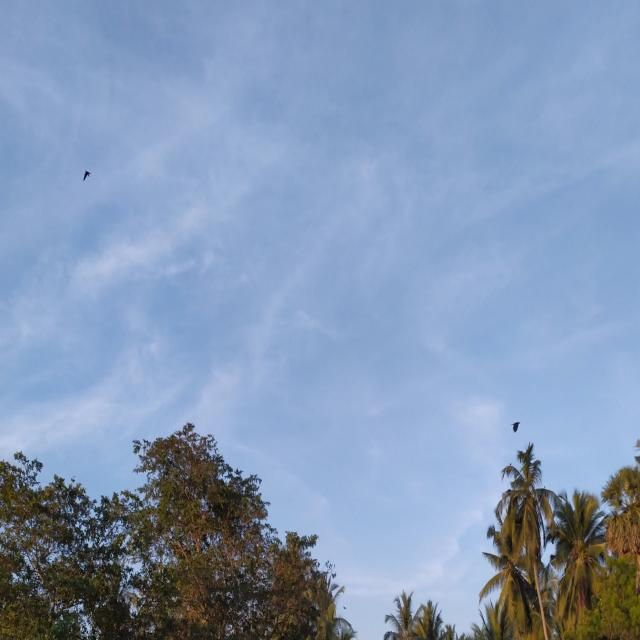bird: (78, 163, 94, 190), (509, 412, 522, 437)
